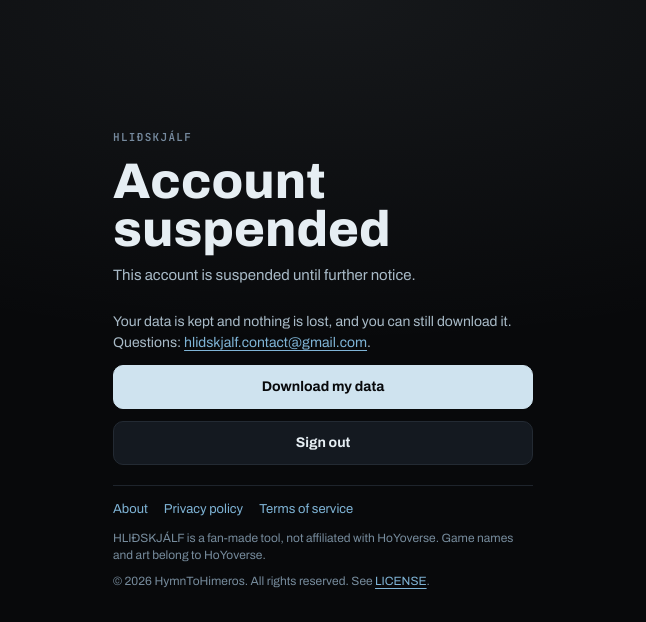
it: a suspended account (T60b) › can still download its own data (the privacy page promises export any time)
The image size is (646, 622).
Expected: the text "you can still download it" is shown, [329,314,508,329]
Step 1. Click the button "Download my data" → (323, 387), box [113,365,533,409]
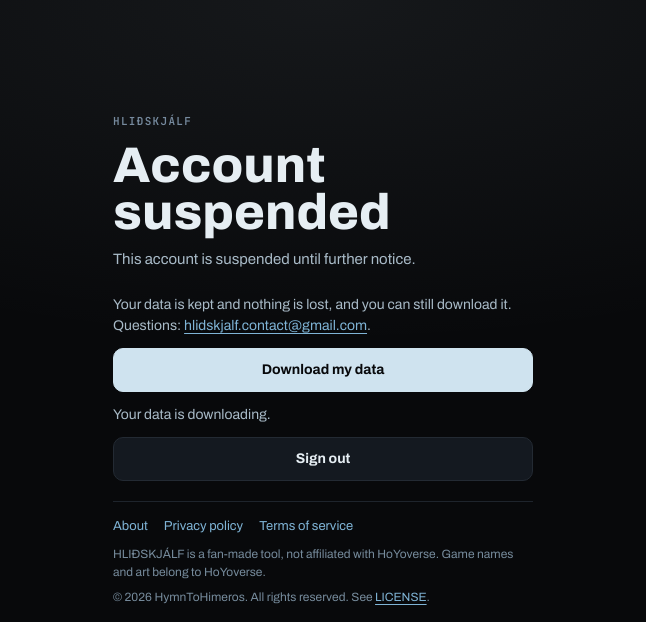
Expected: the message reads "Your data is downloading.", [113,407,271,422]
